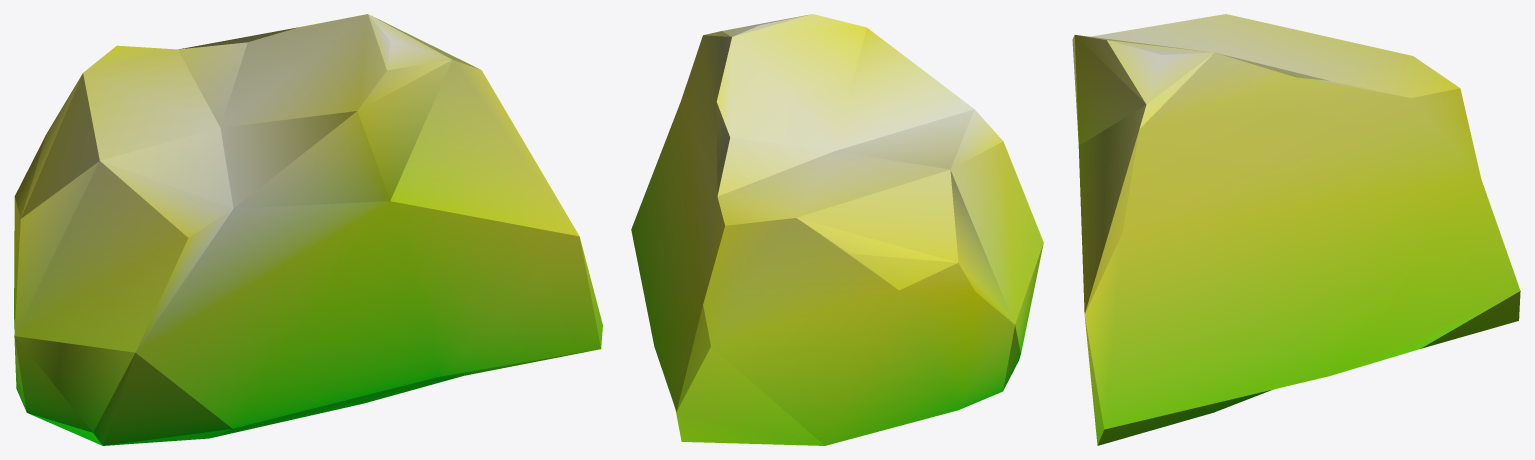
File: rock_solo_04_LOD2.fbx
3 views of the same model, side by side, from view 1: azimuth 30°, elevation 25°; view 2: azimuth 150°, elevation 25°; view 3: azimuth 270°, elevation 25° (orthographic). The views are drawn at different scales.
Parts seen in each view (by area): view 1: LOD2; view 2: LOD2; view 3: LOD2.
Part boxes in pixels (x1,y1,x2,y2): LOD2: (14,14,602,445); LOD2: (631,14,1043,445); LOD2: (1072,14,1520,445).
Size of the model in its own units: 68571 by 42116 by 54070.
